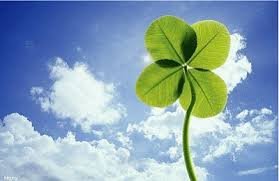4-clover: (139, 17, 234, 118)
